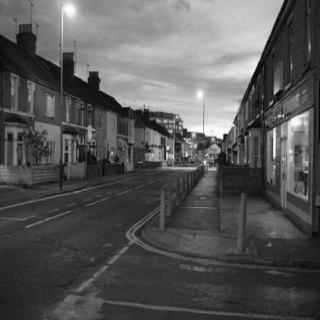other: (288, 118, 304, 130)
